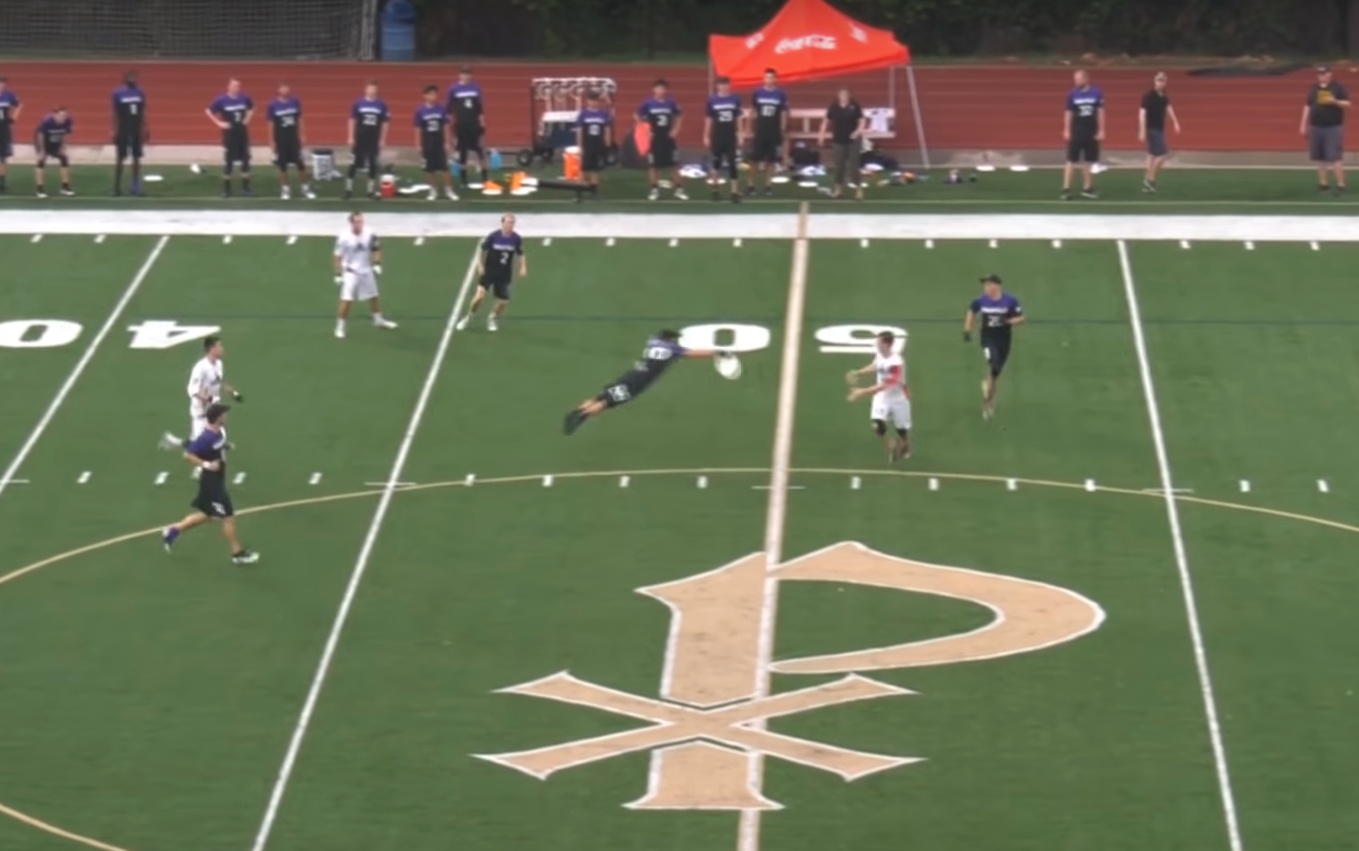frisbee: (714, 352, 742, 380)
